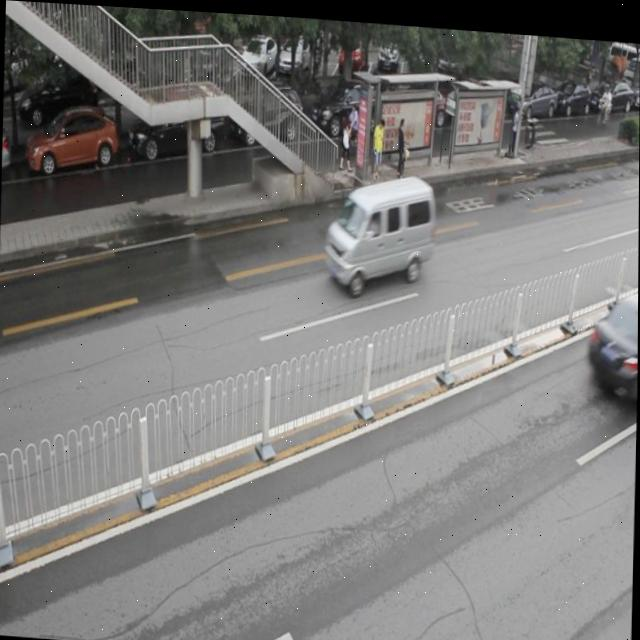car: (25, 105, 117, 178), (583, 280, 639, 398), (128, 101, 223, 159), (228, 83, 304, 144), (309, 75, 384, 136)
truck: (322, 166, 435, 297)
